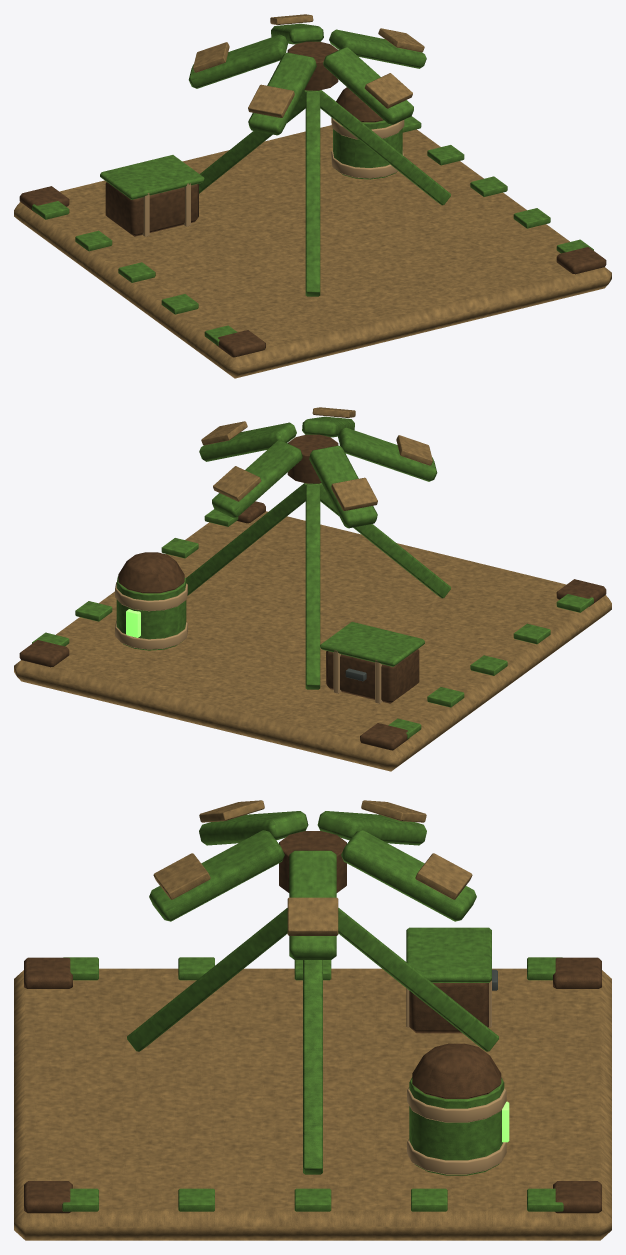
File: vael_dynamo_du_desert.gltf
3 views of the same model, one above another, from view 1: azimuth 30°, elevation 25°; view 2: azimuth 150°, elevation 25°; view 3: azimuth 270°, elevation 25° (orthographic). The views are drawn at different scales.
Visible parts, largest first — view 1: Root.001_Geometry, Rotor_0_Geometry; view 2: Root.001_Geometry, Rotor_0_Geometry; view 3: Root.001_Geometry, Rotor_0_Geometry.
Part boxes in pixels (box(x1,y1,x2,y2)): Root.001_Geometry: box(14, 87, 611, 378); Rotor_0_Geometry: box(188, 14, 426, 135); Root.001_Geometry: box(14, 483, 611, 771); Rotor_0_Geometry: box(199, 407, 437, 528); Root.001_Geometry: box(14, 908, 611, 1240); Rotor_0_Geometry: box(149, 800, 476, 959).
Bounding box in the file's own units: 3.91 × 2.08 × 3.91.
6 materials, 3 textured.
